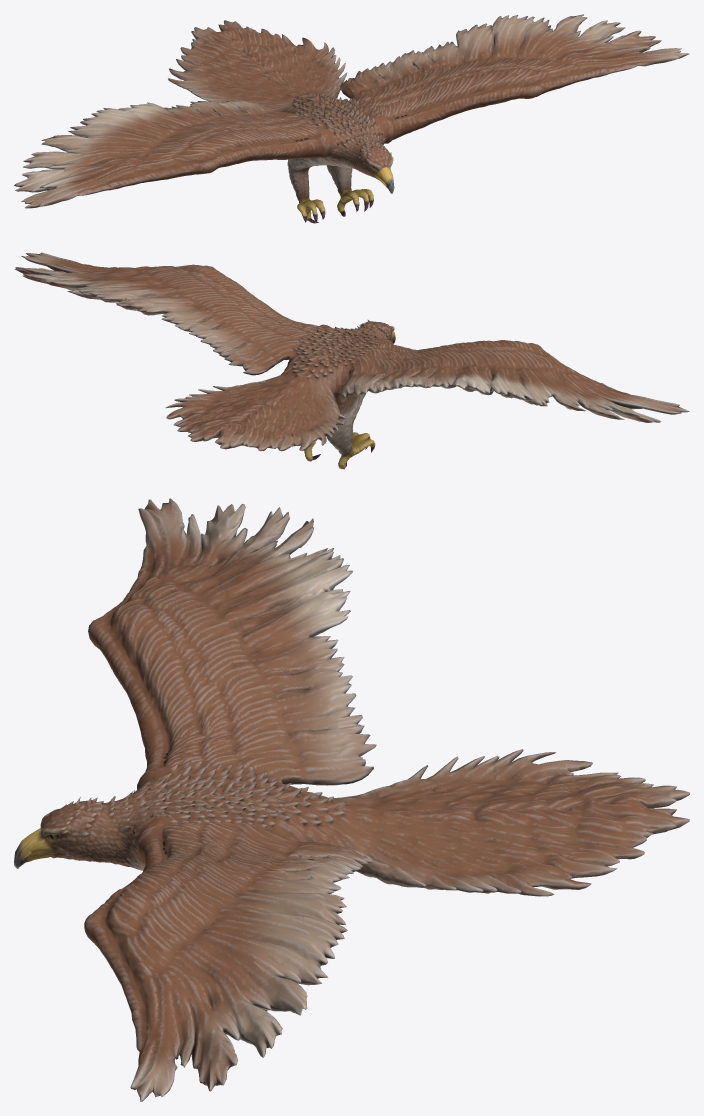
Rendered from MZ4250 - Hawk.glb.
The picture shows the model from 3 angles, top to bottom: view 1: azimuth 30°, elevation 25°; view 2: azimuth 150°, elevation 25°; view 3: azimuth 270°, elevation 25°; orthographic projection. The views are drawn at different scales.
Parts seen in each view (by area): view 1: Eagel.001; view 2: Eagel.001; view 3: Eagel.001.
Part boxes in pixels (left/top/right/bottom): Eagel.001: left=14, top=14, right=689, bottom=223; Eagel.001: left=14, top=252, right=689, bottom=469; Eagel.001: left=14, top=498, right=689, bottom=1101.
Size of the model in its own units: 305 by 61.82 by 147.
1 material, 1 textured.
